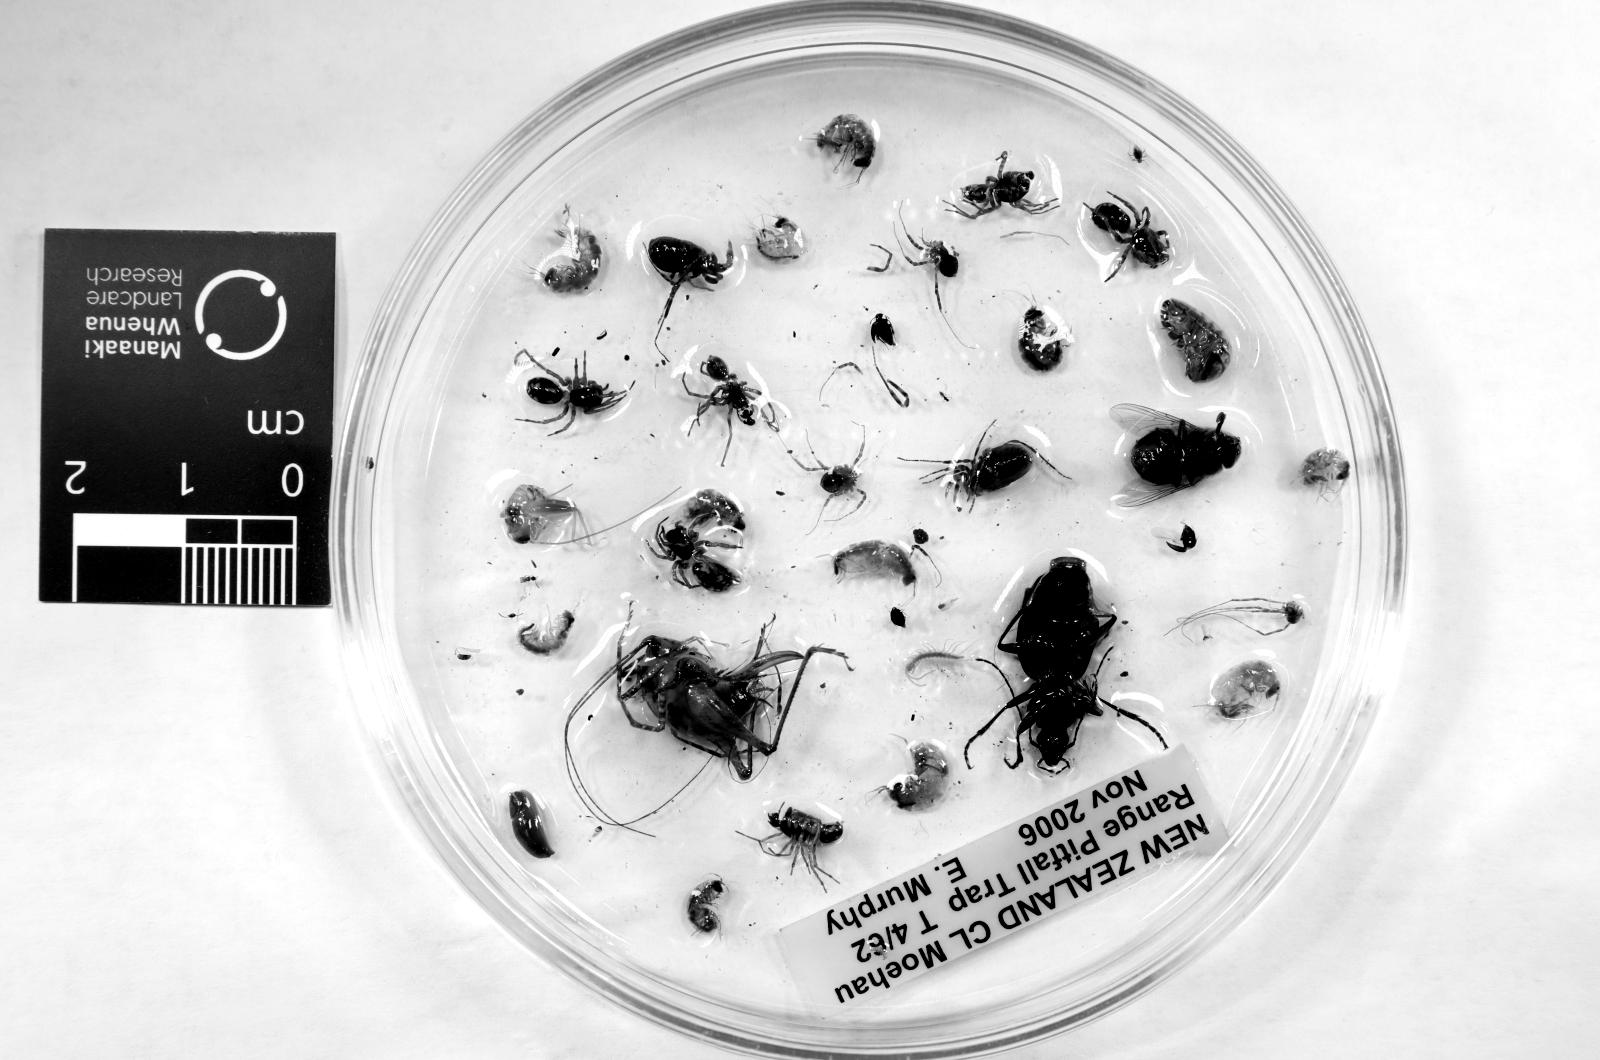amphipoda: (544, 205, 600, 292), (885, 742, 950, 810), (1210, 658, 1281, 717), (831, 541, 915, 584), (816, 115, 875, 170), (1018, 308, 1065, 373), (1300, 447, 1350, 500), (519, 608, 575, 655), (685, 491, 747, 531), (757, 218, 807, 260), (687, 879, 725, 935)
araneae: (519, 351, 628, 435), (687, 357, 778, 447), (947, 153, 1056, 218), (753, 804, 843, 879), (650, 518, 738, 593), (1090, 199, 1168, 277)
carabidae: (1000, 556, 1115, 770)
chilopoda: (903, 646, 972, 686)
coleoptera: (872, 314, 894, 344), (890, 608, 906, 627)
diptera: (1109, 403, 1241, 506)
isopoda: (1159, 298, 1231, 382)
opiliones: (919, 432, 1050, 509), (647, 237, 734, 342), (793, 438, 866, 509), (1178, 600, 1303, 636), (903, 230, 959, 310)
orthoptera: (616, 625, 843, 780), (500, 485, 590, 543)
